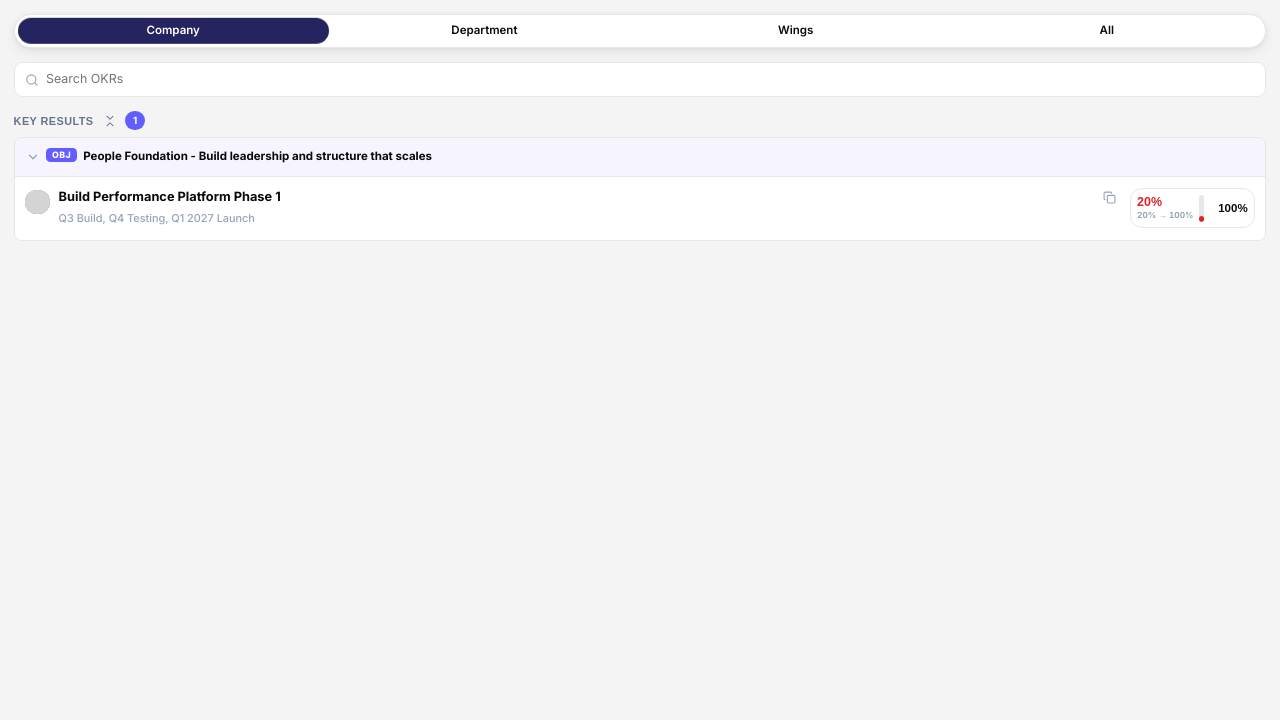
GoalOkrReferenceList › opens the OKR-platform-style detail panel when a key result is clicked
Click the text "Build Performance Platform Phase 1".
click(170, 196)  # box [59,189,281,204]
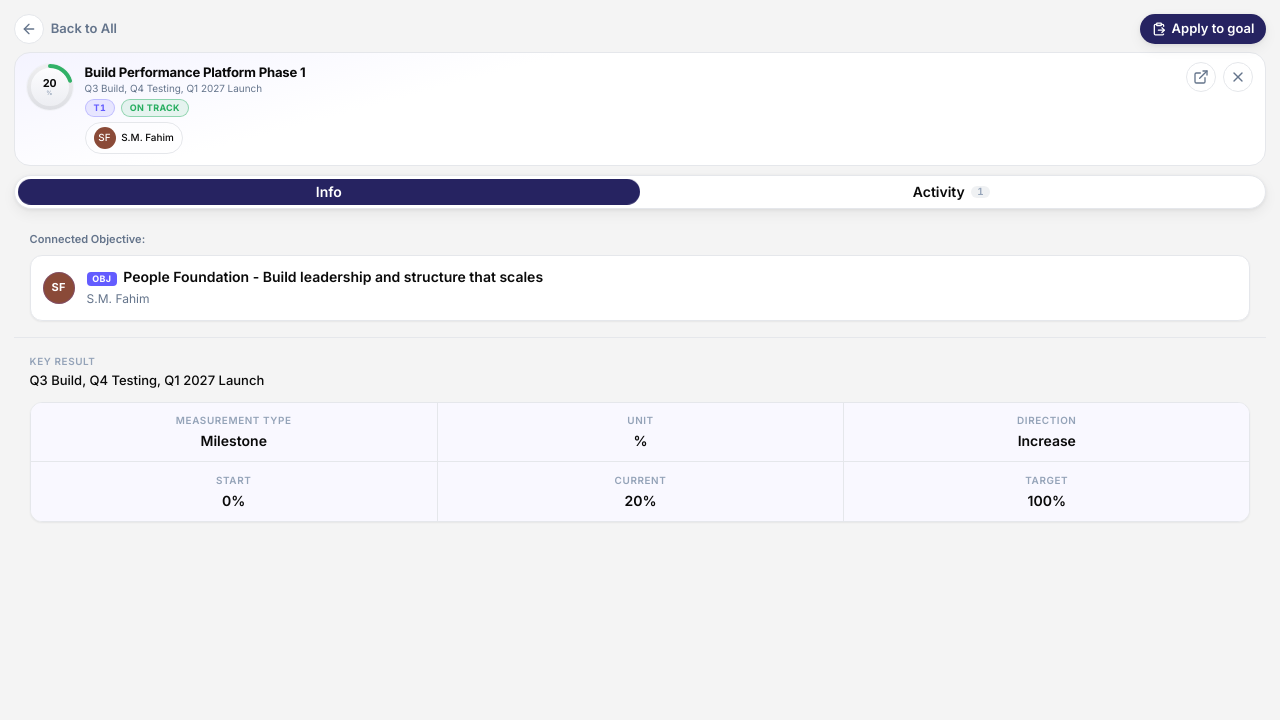
Now the element named "Key result details" is shown
Now the text "Q3 Build, Q4 Testing, Q1 2027 Launch" below "Build Performance Platform Phase 1" is shown, box [85,82,262,94]
Now the text "On Track" is shown, box [121,100,189,117]
